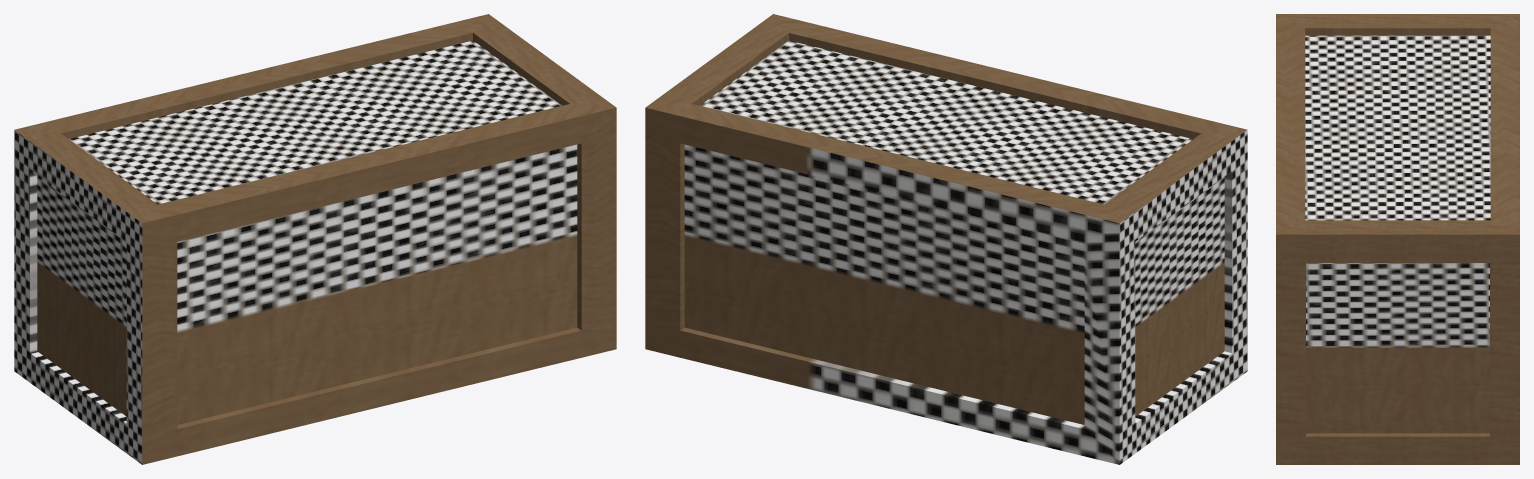
The model's file is long crates.fbx.
3 renders of one model, left to right at view 1: azimuth 30°, elevation 25°; view 2: azimuth 150°, elevation 25°; view 3: azimuth 270°, elevation 25°, orthographic. The views are drawn at different scales.
Parts seen in each view (by area): view 1: Cube.076; view 2: Cube.076; view 3: Cube.076.
Boxes of the visible parts, <box> form: Cube.076: <box>14,14,616,464</box>; Cube.076: <box>645,14,1247,464</box>; Cube.076: <box>1276,14,1519,464</box>.
Size of the model in its own units: 165 by 80.51 by 77.29.
